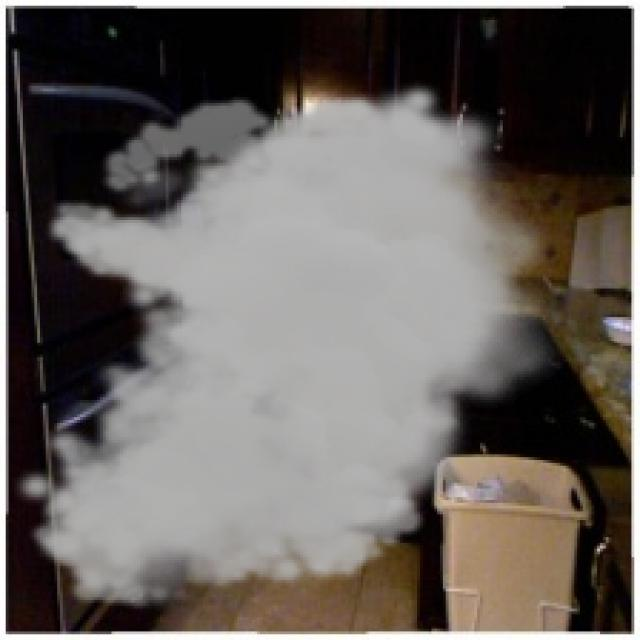smoke: (11, 80, 568, 611)
